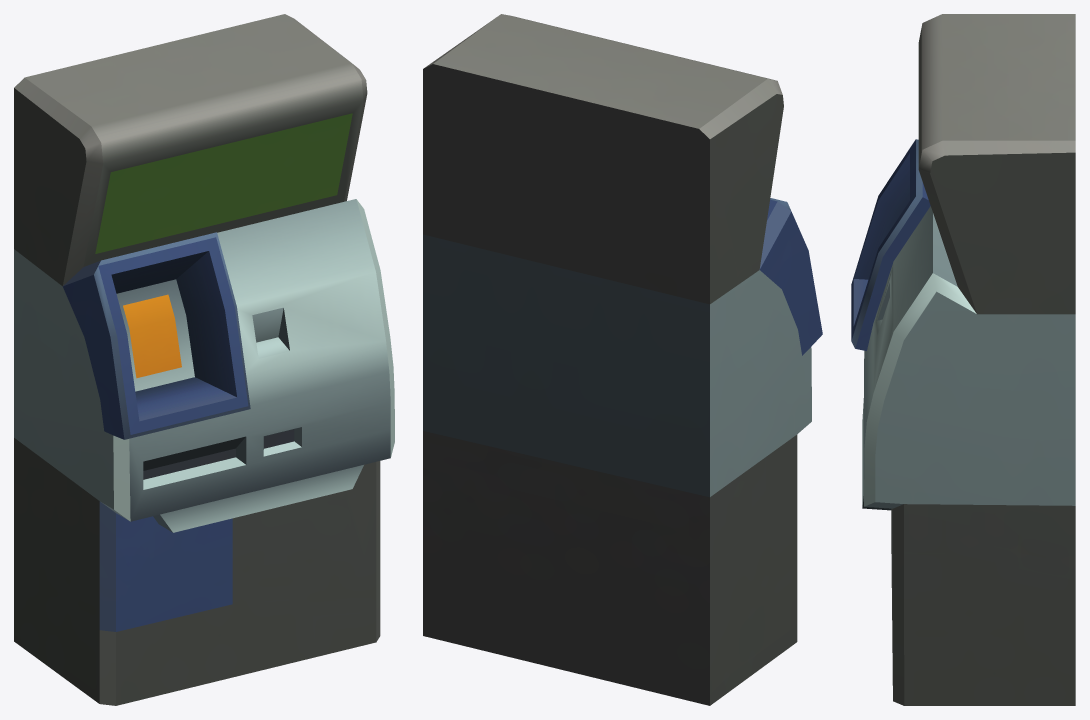
The model's file is atm.fbx.
3 renders of one model, left to right at view 1: azimuth 30°, elevation 25°; view 2: azimuth 150°, elevation 25°; view 3: azimuth 270°, elevation 25°, orthographic. The views are drawn at different scales.
Visible parts, largest first — view 1: atm; view 2: atm; view 3: atm.
Boxes of the visible parts, box(x1,y1,x2,y2) form: atm: box(14, 14, 394, 705); atm: box(423, 14, 822, 705); atm: box(851, 14, 1075, 705).
Size of the model in its own units: 100 by 191 by 69.37.
